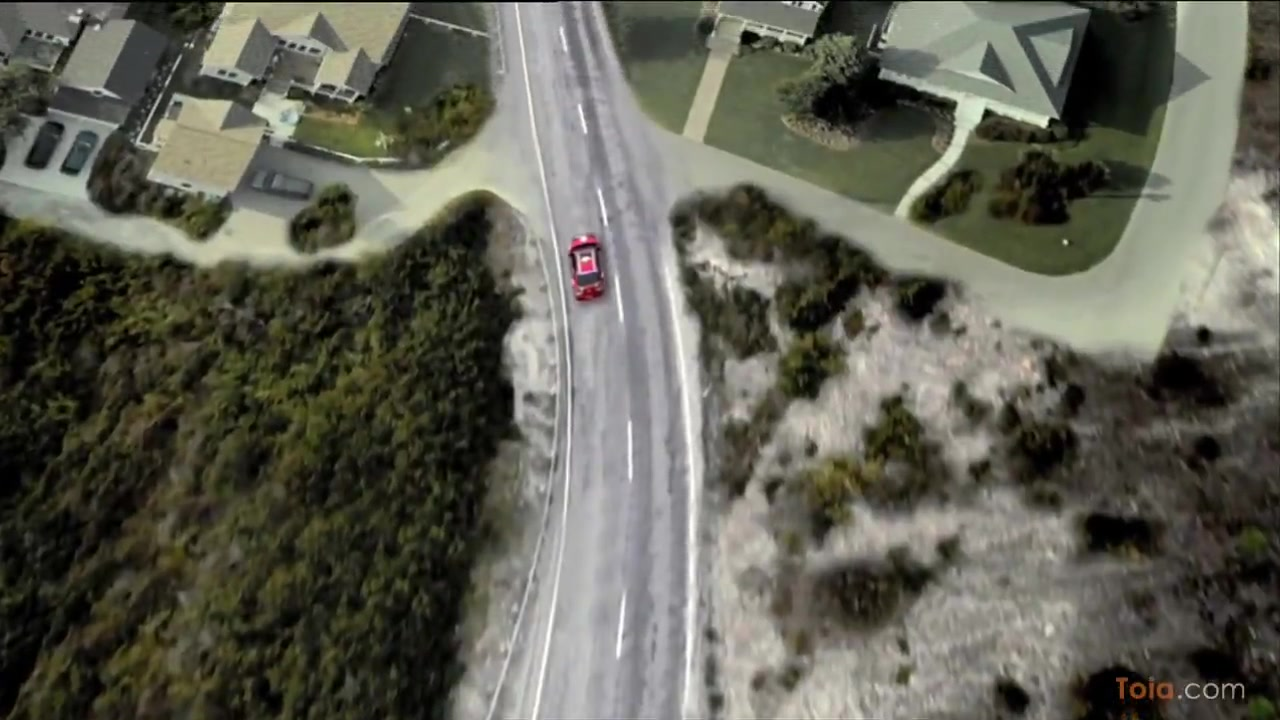car: (567, 230, 612, 309)
